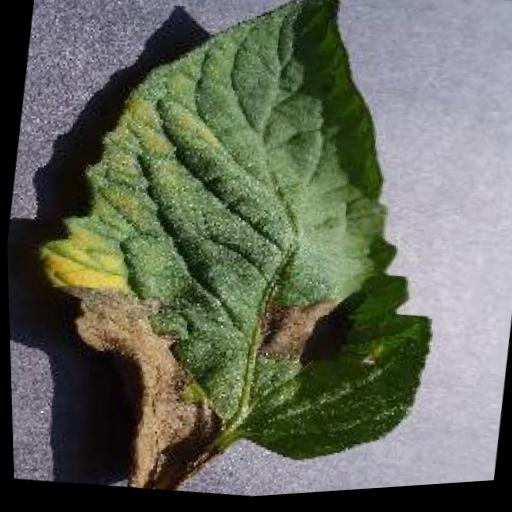Late Blight: (0, 0, 483, 512)
